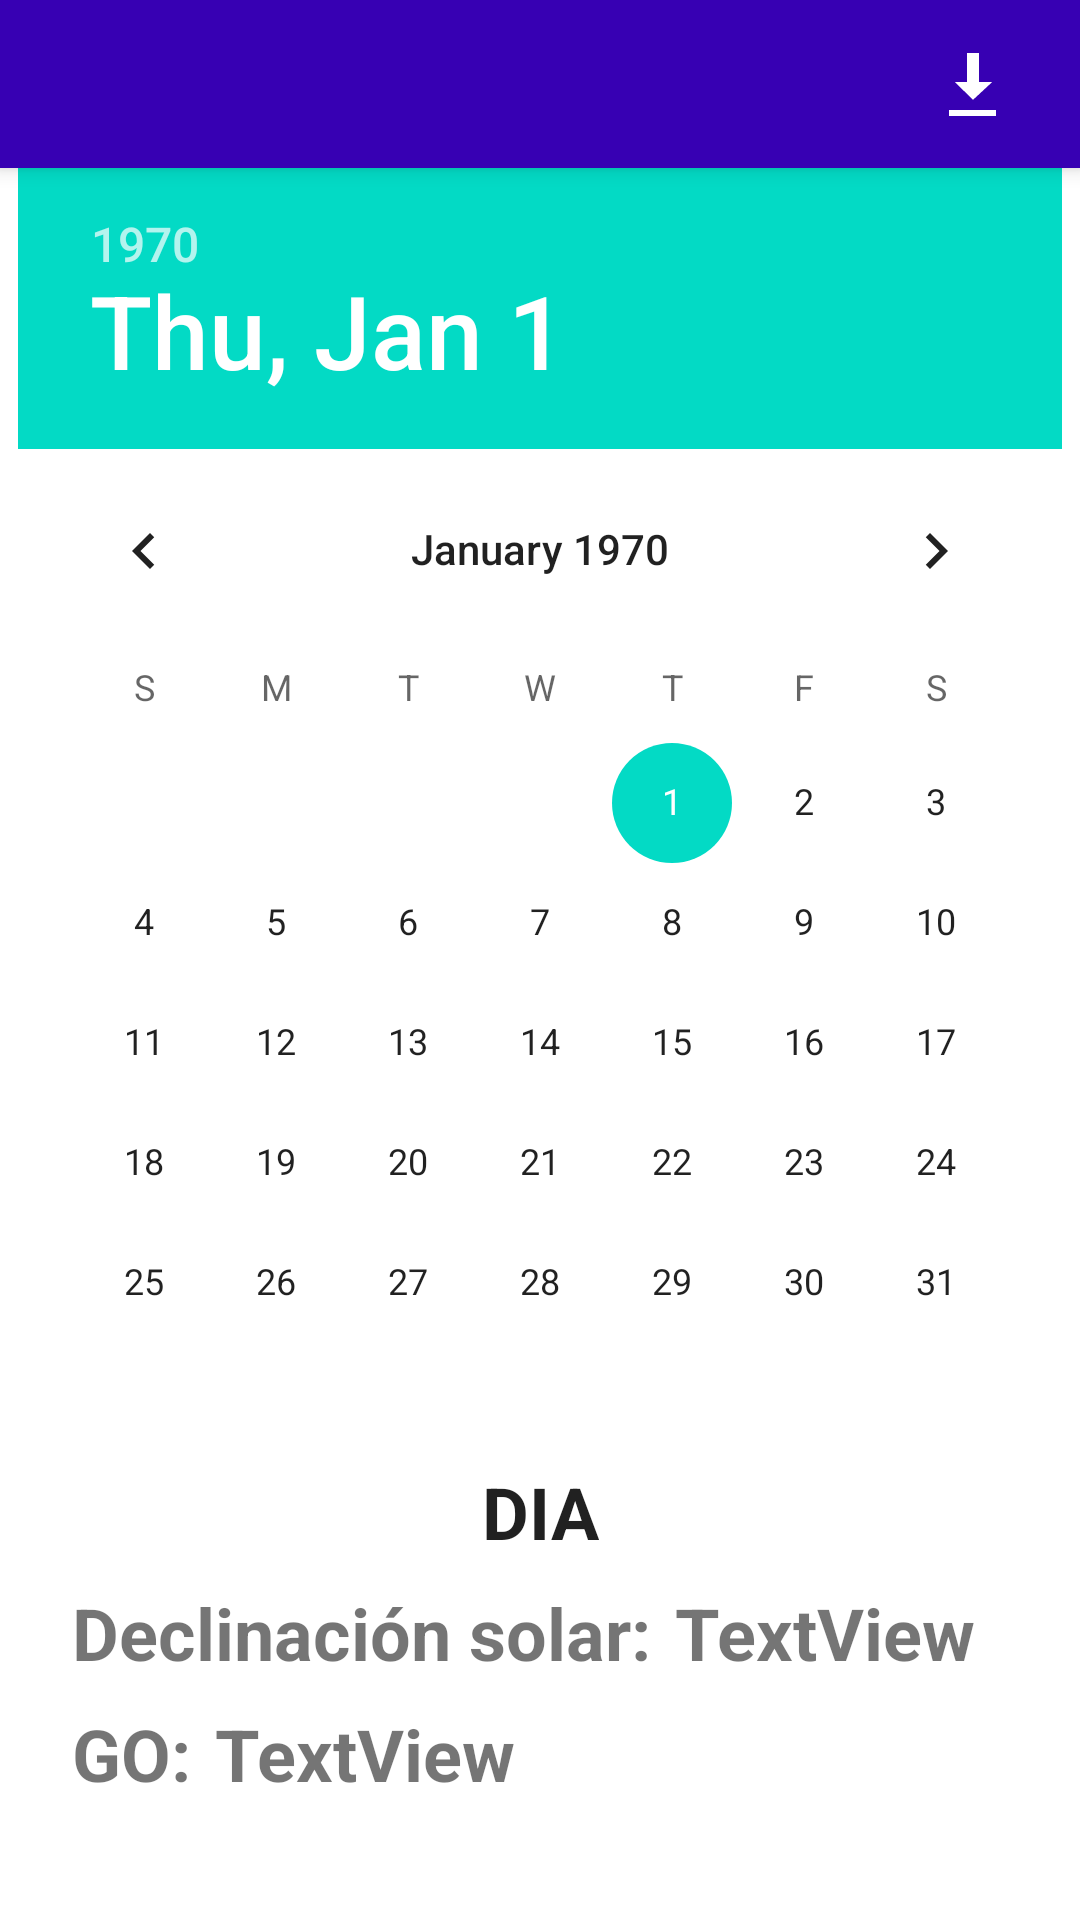

Named icons in this screenshot (1080w x 1920h) and their bounding boxes, (x1, y1, x2, y2):
download: (949, 53, 996, 116)
